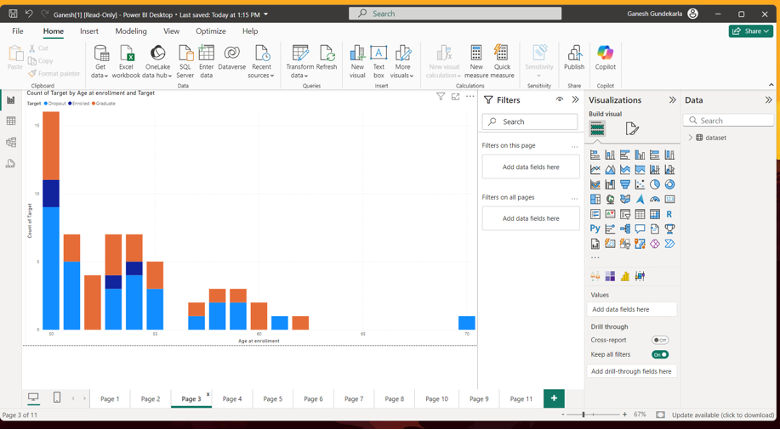

The dashboard page shown, as its layout file describes it:
{"tool":"powerbi","page":{"name":"Page 3","canvas":[1280,720],"ordinal":2},"visuals":[{"type":"columnChart","fields":{"Category":["dataset.Age at enrollment"],"Series":["dataset.Target"],"Y":["CountNonNull(dataset.Target)"]},"box":[9.4,0,1269.9,720],"z":0}]}

Visuals, with their boxes on the page's 1280x720 design canvas (x1, y1, x2, y2). These are canvas units, not pixel positions in the 780x430 screenshot, which may show the page scaled, cropped or inside an application window:
columnChart - dataset.Age at enrollment x dataset.Target: <box>9,0,1279,720</box>
